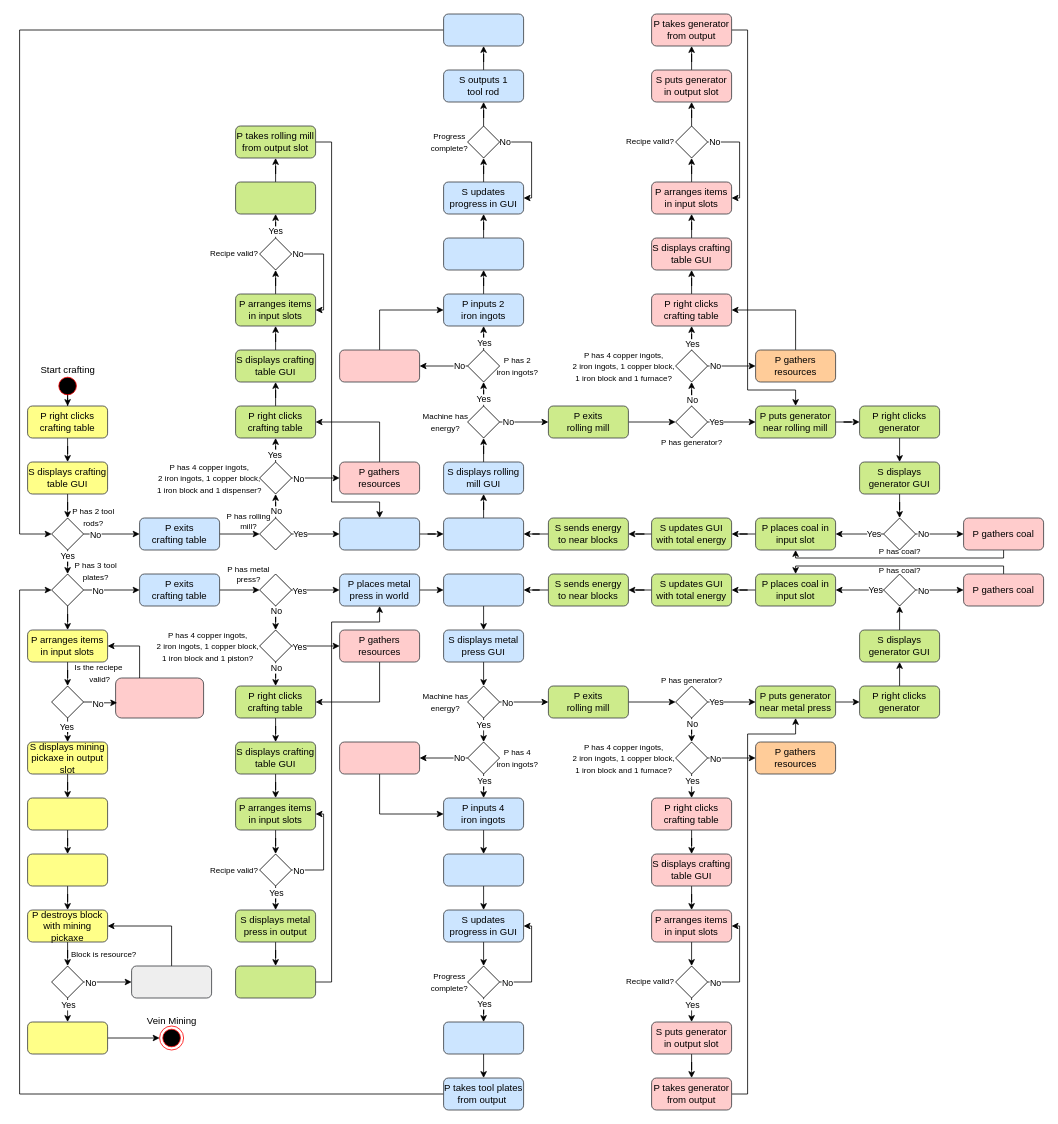
This 1058x1124 diagram has some shape labels left out. Each missing label, with the centre of its shape:
"P equips mining pickaxe" belongs at [67,869].
"P obtains 2 iron ingots" belongs at [379,365].
"P obtains 4 iron ingots" belongs at [379,757].
"P places rolling mill in world" belongs at [379,533].
"P right clicks metal press" belongs at [483,589].
"P right clicks rolling mill" belongs at [483,533].
"P takes metal press from output" belongs at [275,981].
"P takes mining pickaxe from output" belongs at [67,813].
"P takes tool rod from output" belongs at [483,29].
"S consumes 2 iron ingots" belongs at [483,253].
"S consumes 4 iron ingots" belongs at [483,869].
"S destroys connected resources blocks" belongs at [67,1037].
"S destroys only that block" belongs at [171,981].
"S displays rolling mill in output slot" belongs at [275,197].
"S does not display mining pickaxe in output slot" belongs at [159,697].
"S outputs 1 tool plates" belongs at [483,1037].
